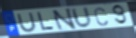9: (111, 4, 128, 25)
C: (93, 7, 109, 27)
L: (36, 11, 55, 32)
N: (51, 7, 78, 32)
U: (70, 6, 94, 30), (15, 12, 39, 33)
